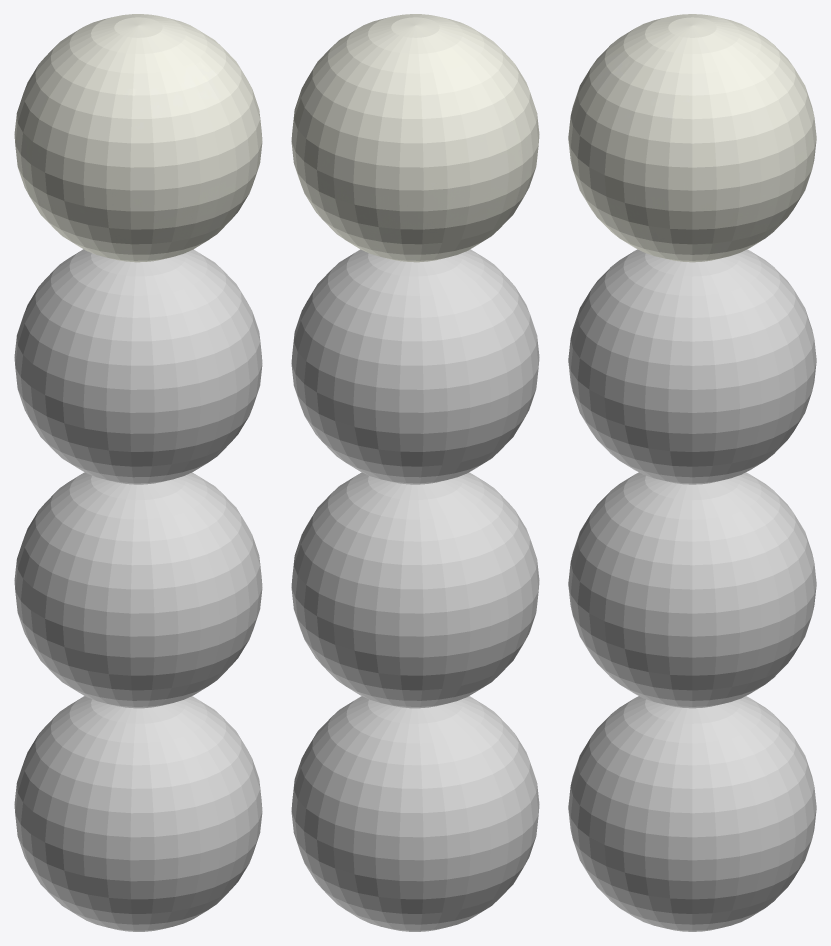
Rendered from huevos.fbx.
3 views of the same model, side by side, from view 1: azimuth 30°, elevation 25°; view 2: azimuth 150°, elevation 25°; view 3: azimuth 270°, elevation 25° (orthographic).
Parts seen in each view (by area): view 1: Sphere.003, Sphere.001, Sphere, Sphere.002; view 2: Sphere.003, Sphere.001, Sphere, Sphere.002; view 3: Sphere.003, Sphere.001, Sphere, Sphere.002.
Boxes of the visible parts, x1,y1,x2,y2 form: Sphere.003: (14, 14, 262, 262); Sphere.001: (14, 472, 262, 708); Sphere: (14, 696, 262, 931); Sphere.002: (14, 249, 262, 484); Sphere.003: (291, 14, 539, 262); Sphere.001: (291, 472, 539, 708); Sphere: (291, 696, 539, 931); Sphere.002: (291, 249, 539, 484); Sphere.003: (568, 14, 816, 262); Sphere.001: (568, 472, 816, 708); Sphere: (568, 696, 816, 931); Sphere.002: (568, 249, 816, 484).
Bounding box in the file's own units: 107 × 425 × 107.
1 material, 1 textured.
